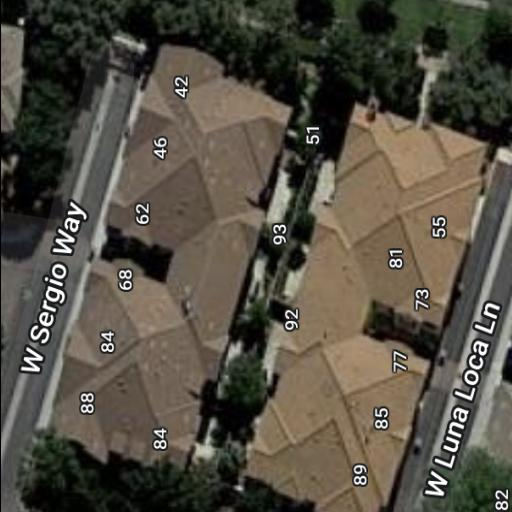Slope-Roof: (44, 44, 293, 483), (239, 99, 493, 512)
